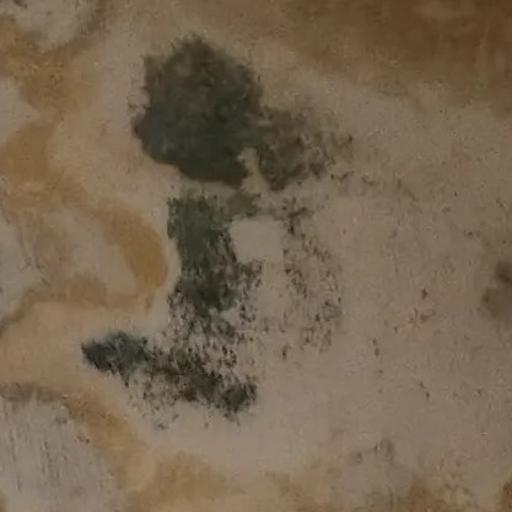algae: (96, 20, 389, 456)
